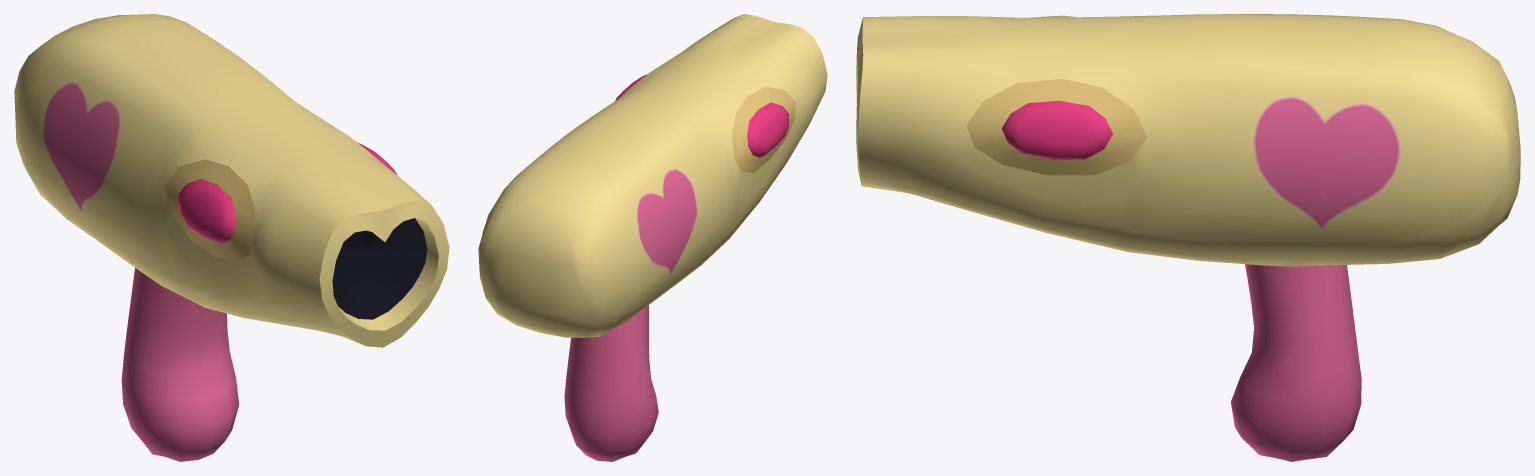
File: Love_Gun.fbx
3 views of the same model, side by side, from view 1: azimuth 30°, elevation 25°; view 2: azimuth 150°, elevation 25°; view 3: azimuth 270°, elevation 25° (orthographic). The views are drawn at different scales.
Parts seen in each view (by area): view 1: Love_Gun; view 2: Love_Gun; view 3: Love_Gun.
Boxes of the visible parts, <box> form: Love_Gun: <box>14,14,449,461</box>; Love_Gun: <box>478,14,827,461</box>; Love_Gun: <box>856,14,1520,461</box>.
Size of the model in its own units: 72.87 by 146 by 208.
